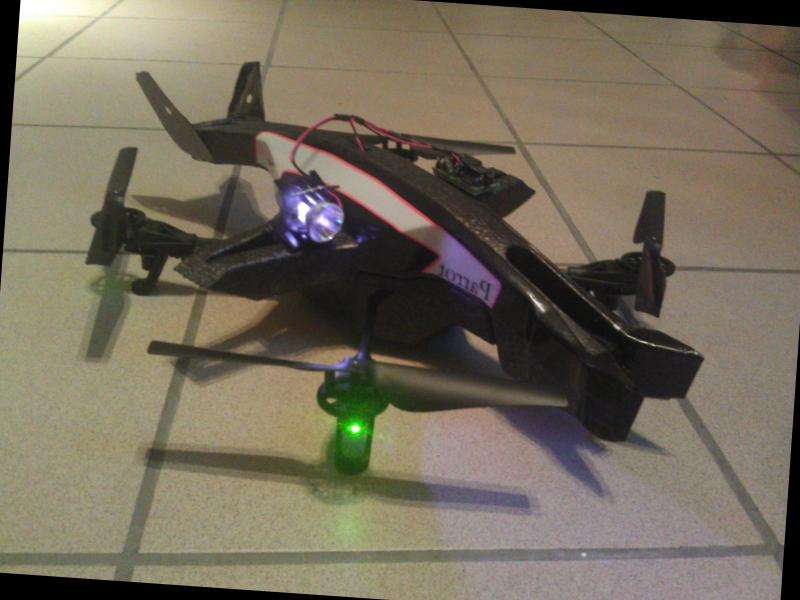drone: (48, 70, 694, 515)
